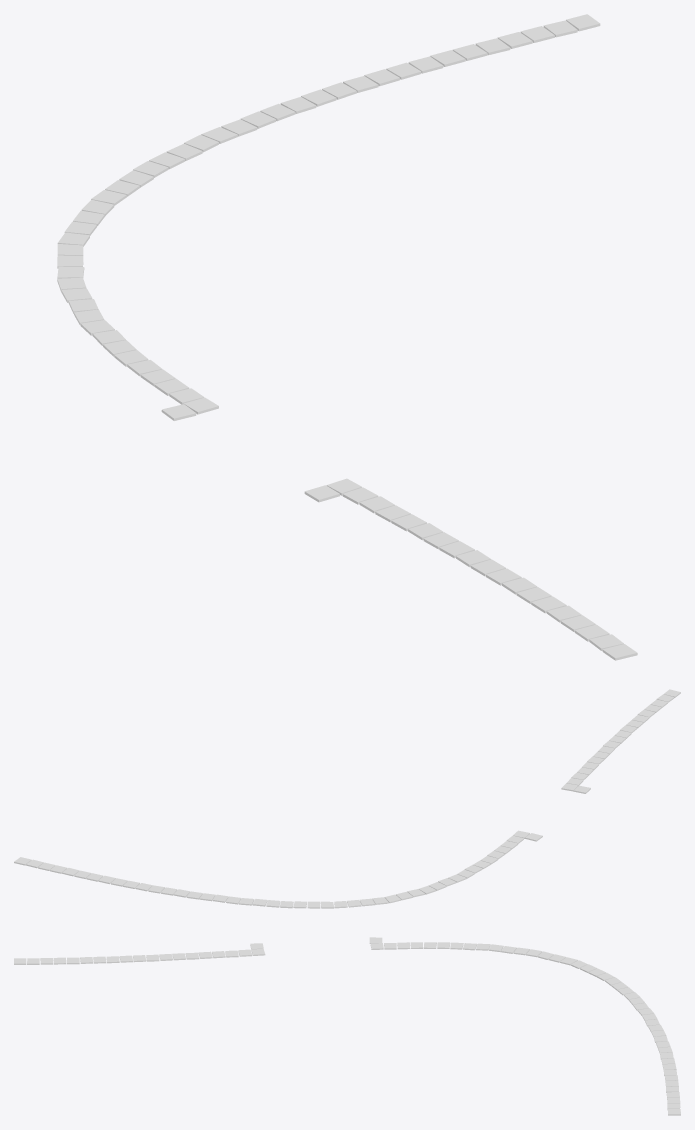
Rendered from object_8_lev1.glb.
The picture shows the model from 3 angles, top to bottom: view 1: azimuth 30°, elevation 25°; view 2: azimuth 150°, elevation 25°; view 3: azimuth 270°, elevation 25°; orthographic projection. The views are drawn at different scales.
Parts seen in each view (by area): view 1: object_8_lev1; view 2: object_8_lev1; view 3: object_8_lev1.
Part boxes in pixels (x1,y1,x2,y2): object_8_lev1: (57,14,637,660); object_8_lev1: (14,689,680,908); object_8_lev1: (14,937,680,1115).
Size of the model in its own units: 6.14 by 0.02 by 9.79.
Materials: 1 (1 with a texture image).
